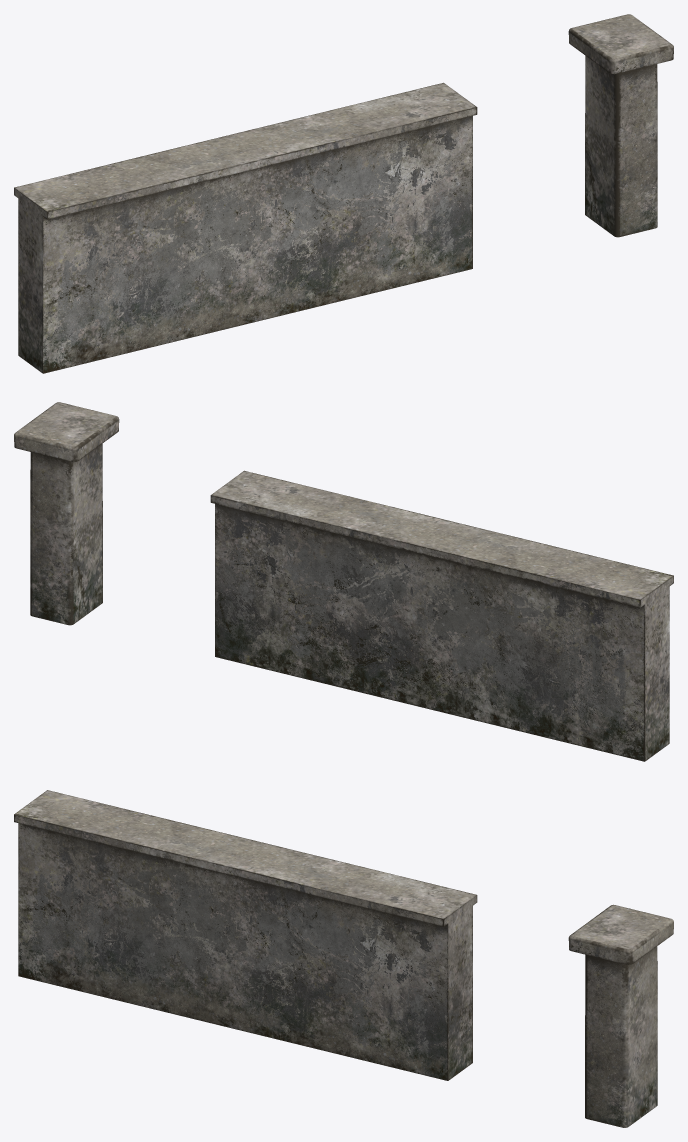
The picture shows the model from 3 angles, top to bottom: view 1: azimuth 30°, elevation 25°; view 2: azimuth 150°, elevation 25°; view 3: azimuth 330°, elevation 25°; orthographic projection.
Visible parts, largest first — view 1: 01_2, 02; view 2: 01_2, 02; view 3: 01_2, 02.
Boxes of the visible parts, x1=… form: 01_2: x1=14, y1=82, x2=477, y2=373; 02: x1=568, y1=14, x2=673, y2=237; 01_2: x1=210, y1=470, x2=673, y2=761; 02: x1=14, y1=402, x2=119, y2=625; 01_2: x1=14, y1=790, x2=477, y2=1080; 02: x1=568, y1=904, x2=673, y2=1127.
Bounding box in the file's own units: 434 × 123 × 54.4.
Materials: 1 (1 with a texture image).
